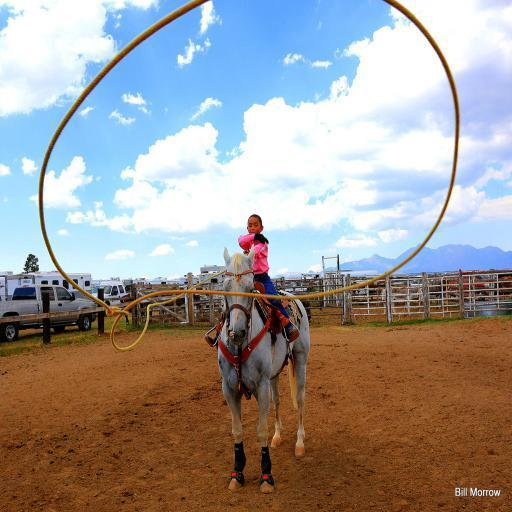horse: (217, 244, 311, 492)
